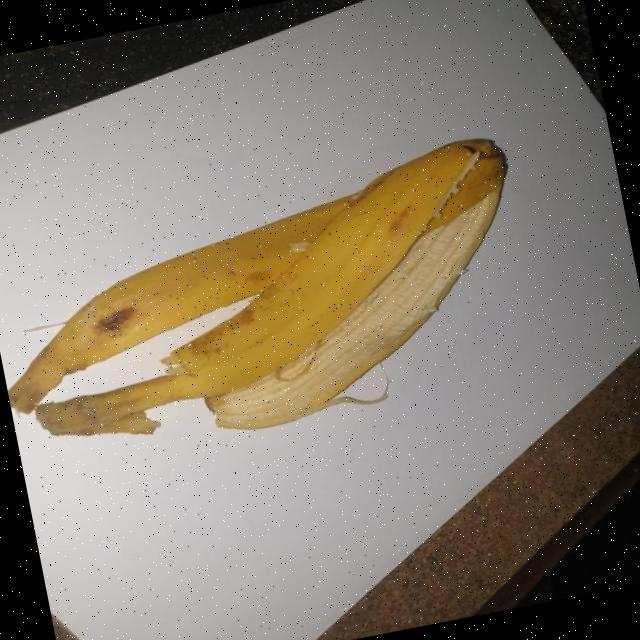banana-peel: (0, 129, 548, 475)
